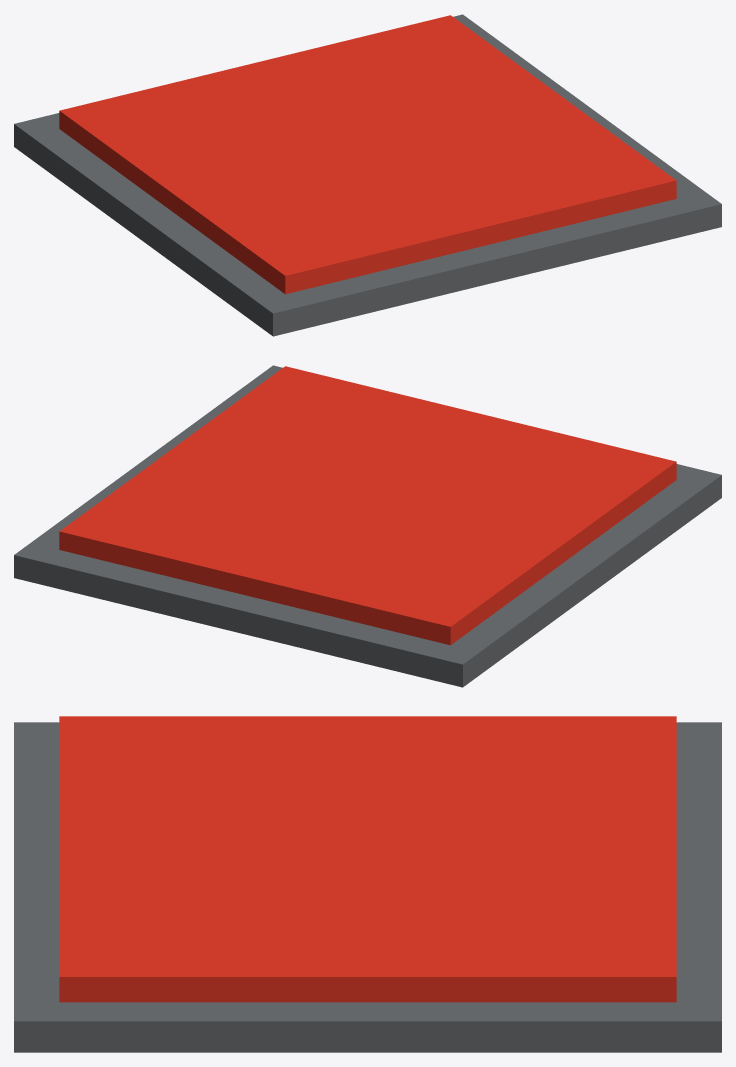
The model's file is Button.fbx.
3 views of the same model, one above another, from view 1: azimuth 30°, elevation 25°; view 2: azimuth 150°, elevation 25°; view 3: azimuth 270°, elevation 25° (orthographic). The views are drawn at different scales.
Parts seen in each view (by area): view 1: Cube.001, Cube; view 2: Cube.001, Cube; view 3: Cube.001, Cube.
Boxes of the visible parts, bbox=[...] form: Cube.001: bbox=[59, 15, 676, 294]; Cube: bbox=[14, 14, 721, 336]; Cube.001: bbox=[59, 366, 676, 645]; Cube: bbox=[14, 365, 721, 687]; Cube.001: bbox=[59, 716, 676, 1002]; Cube: bbox=[14, 722, 721, 1052].
Bounding box in the file's own units: 65.08 × 5.74 × 65.08.
